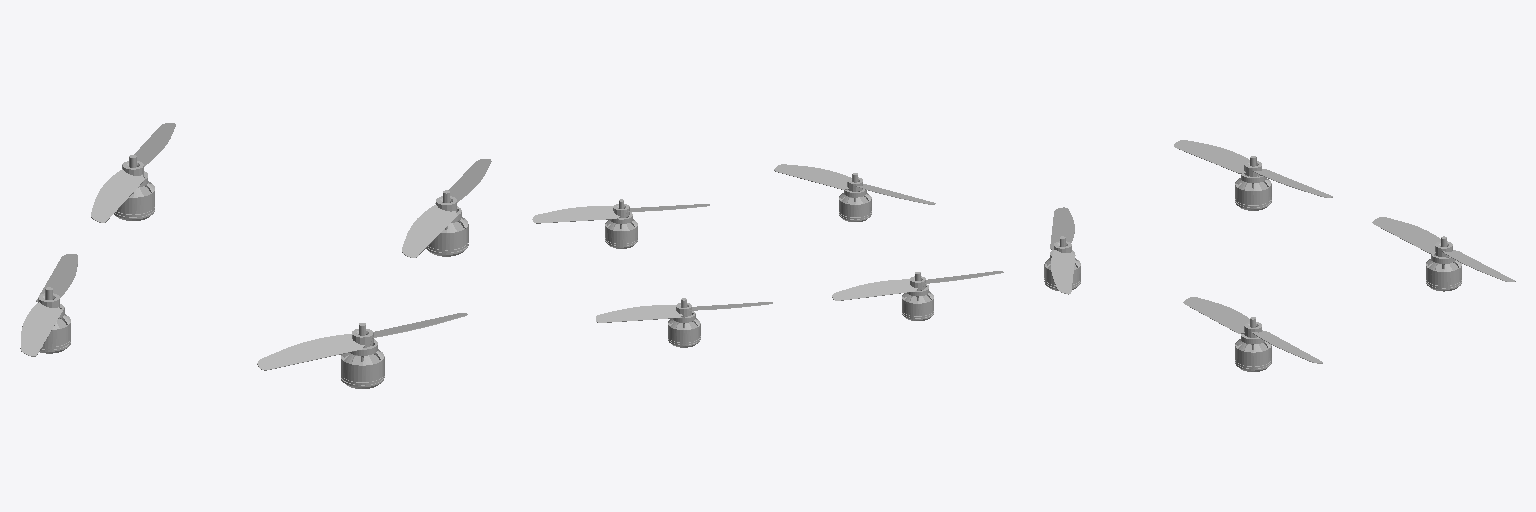
URDF robot description (quadcopter):
<robot
  name="quadcopter">
  <link
    name="main_body">
    <inertial>
      <origin
        xyz="1.6208E-10 -1.5103E-10 2.7915E-10"
        rpy="0 0 0" />
      <mass
        value="0.052451" />
      <inertia
        ixx="0.00010119"
        ixy="5.6493E-08"
        ixz="2.442E-14"
        iyy="0.00010119"
        iyz="-2.2727E-14"
        izz="0.00019415" />
    </inertial>
    <visual>
      <origin
        xyz="0 0 0"
        rpy="0 0 0" />
      <geometry>
        <mesh
          filename="package://Database/urdf/meshes/main_body.STL" />
      </geometry>
      <material
        name="">
        <color
          rgba="0.75294 0.75294 0.75294 1" />
      </material>
    </visual>
    <collision>
      <origin
        xyz="0 0 0"
        rpy="0 0 0" />
      <geometry>
        <mesh
          filename="package://Database/urdf/meshes/main_body.STL" />
      </geometry>
    </collision>
  </link>
    <link
    name="motor1">
    <inertial>
      <origin
        xyz="2.7756E-17 -2.7756E-17 2.7756E-17"
        rpy="0 0 0" />
      <mass
        value="0.0067333" />
      <inertia
        ixx="1.2162E-06"
        ixy="4.1395E-08"
        ixz="-4.4137E-19"
        iyy="6.3625E-07"
        iyz="-1.4697E-17"
        izz="9.6099E-07" />
    </inertial>
    <visual>
      <origin
        xyz="0 0 0"
        rpy="0 0 0" />
      <geometry>
        <mesh
          filename="package://Database/urdf/meshes/motor1.STL" />
      </geometry>
      <material
        name="">
        <color
          rgba="0.75294 0.75294 0.75294 1" />
      </material>
    </visual>
    <collision>
      <origin
        xyz="0 0 0"
        rpy="0 0 0" />
      <geometry>
        <mesh
          filename="package://Database/urdf/meshes/motor1.STL" />
      </geometry>
    </collision>
  </link>
  <joint
    name="prp1"
    type="revolute">
    <origin
      xyz="-0.12 0 0.0077966"
      rpy="-3.4915E-15 0 -0.7854" />
    <parent
      link="main_body" />
    <child
      link="motor1" />
    <axis
      xyz="0 0 1" />
    <limit
      lower="0"
      upper="31415"
      effort="0"
      velocity="0" />
  </joint>
  <link
    name="motor2">
    <inertial>
      <origin
        xyz="-5.5511E-17 -2.7756E-17 2.7756E-17"
        rpy="0 0 0" />
      <mass
        value="0.0067333" />
      <inertia
        ixx="9.2893E-07"
        ixy="-2.9263E-07"
        ixz="-4.4012E-19"
        iyy="9.2349E-07"
        iyz="-1.4699E-17"
        izz="9.6099E-07" />
    </inertial>
    <visual>
      <origin
        xyz="0 0 0"
        rpy="0 0 0" />
      <geometry>
        <mesh
          filename="package://Database/urdf/meshes/motor2.STL" />
      </geometry>
      <material
        name="">
        <color
          rgba="0.75294 0.75294 0.75294 1" />
      </material>
    </visual>
    <collision>
      <origin
        xyz="0 0 0"
        rpy="0 0 0" />
      <geometry>
        <mesh
          filename="package://Database/urdf/meshes/motor2.STL" />
      </geometry>
    </collision>
  </link>
  <joint
    name="prp2"
    type="revolute">
    <origin
      xyz="0 -0.12 0.0077966"
      rpy="-3.4915E-15 0 -0.7854" />
    <parent
      link="main_body" />
    <child
      link="motor2" />
    <axis
      xyz="0 0 1" />
    <limit
      lower="0"
      upper="31415"
      effort="0"
      velocity="0" />
  </joint>
  <link
    name="motor3">
    <inertial>
      <origin
        xyz="-5.5511E-17 -1.3878E-17 5.5511E-17"
        rpy="0 0 0" />
      <mass
        value="0.0067333" />
      <inertia
        ixx="1.2154E-06"
        ixy="-4.6293E-08"
        ixz="-4.4086E-19"
        iyy="6.3699E-07"
        iyz="-1.47E-17"
        izz="9.6099E-07" />
    </inertial>
    <visual>
      <origin
        xyz="0 0 0"
        rpy="0 0 0" />
      <geometry>
        <mesh
          filename="package://Database/urdf/meshes/motor3.STL" />
      </geometry>
      <material
        name="">
        <color
          rgba="0.75294 0.75294 0.75294 1" />
      </material>
    </visual>
    <collision>
      <origin
        xyz="0 0 0"
        rpy="0 0 0" />
      <geometry>
        <mesh
          filename="package://Database/urdf/meshes/motor3.STL" />
      </geometry>
    </collision>
  </link>
  <joint
    name="prp3"
    type="revolute">
    <origin
      xyz="0.12 0 0.0077966"
      rpy="-3.4915E-15 0 -0.7854" />
    <parent
      link="main_body" />
    <child
      link="motor3" />
    <axis
      xyz="0 0 1" />
    <limit
      lower="0"
      upper="31415"
      effort="0"
      velocity="0" />
  </joint>
  <link
    name="motor4">
    <inertial>
      <origin
        xyz="0 -4.1633E-17 5.5511E-17"
        rpy="0 0 0" />
      <mass
        value="0.0067333" />
      <inertia
        ixx="1.2172E-06"
        ixy="-3.346E-08"
        ixz="-4.4048E-19"
        iyy="6.3522E-07"
        iyz="-1.4698E-17"
        izz="9.6099E-07" />
    </inertial>
    <visual>
      <origin
        xyz="0 0 0"
        rpy="0 0 0" />
      <geometry>
        <mesh
          filename="package://Database/urdf/meshes/motor4.STL" />
      </geometry>
      <material
        name="">
        <color
          rgba="0.75294 0.75294 0.75294 1" />
      </material>
    </visual>
    <collision>
      <origin
        xyz="0 0 0"
        rpy="0 0 0" />
      <geometry>
        <mesh
          filename="package://Database/urdf/meshes/motor4.STL" />
      </geometry>
    </collision>
  </link>
  <joint
    name="prp4"
    type="revolute">
    <origin
      xyz="0 0.12 0.0077966"
      rpy="-3.4915E-15 0 -0.7854" />
    <parent
      link="main_body" />
    <child
      link="motor4" />
    <axis
      xyz="0 0 1" />
    <limit
      lower="0"
      upper="31415"
      effort="0"
      velocity="0" />
  </joint>

</robot>

--- What the picture shows (computed from the rendered views, not written in the file) ---
Views: 3 orthographic renders of the robot side by side, from view 1: azimuth 30°, elevation 25°; view 2: azimuth 150°, elevation 25°; view 3: azimuth 270°, elevation 25°.
Model quadcopter with 5 links and 4 joints (4 revolute), rooted at main_body, posed every joint at zero.
Links seen in each view (by area): view 1: motor2, motor3, motor4, motor1; view 2: motor3, motor4, motor2, motor1; view 3: motor1, motor3, motor4, motor2.
Link boxes in pixels (box(x1,y1,x2,y2)): motor2: box(257, 313, 467, 388); motor3: box(402, 159, 491, 257); motor4: box(91, 123, 175, 222); motor1: box(20, 254, 77, 356); motor3: box(532, 199, 709, 248); motor4: box(596, 298, 772, 347); motor2: box(774, 164, 935, 221); motor1: box(832, 271, 1003, 320); motor1: box(1174, 140, 1332, 210); motor3: box(1183, 297, 1322, 371); motor4: box(1372, 217, 1515, 291); motor2: box(1044, 207, 1080, 294).
Bounding box of the posed robot: 0.3315 × 0.2965 × 0.0348 m (x, y, z).
Meshes: 5 distinct files referenced, 4 mesh visuals loaded (4 binary STL); not drawn: 1 (reference not matched to a file when rendering).